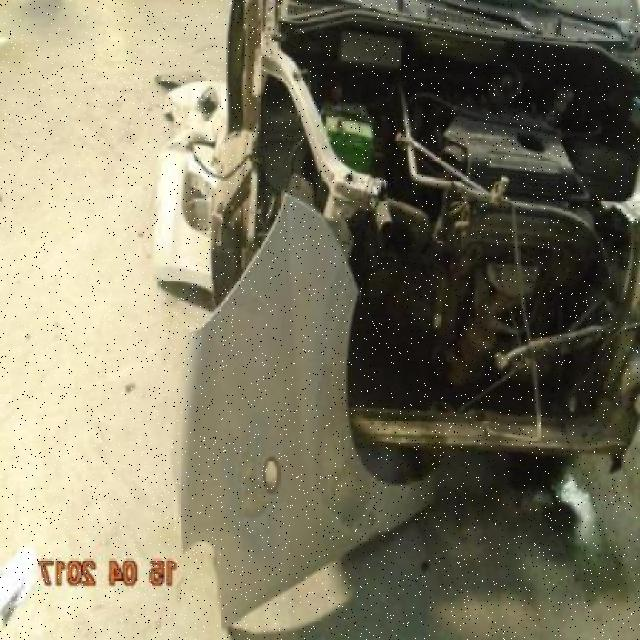damage: (209, 59, 640, 442)
